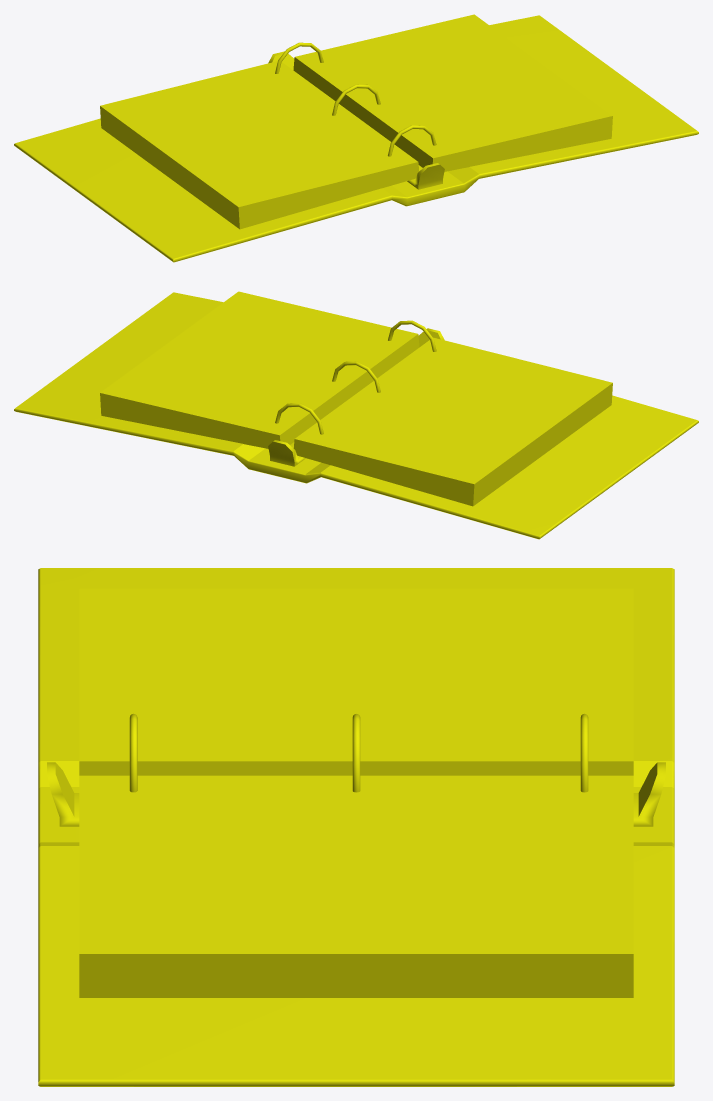
Rendered from BinderOpen_02.fbx.
The picture shows the model from 3 angles, top to bottom: view 1: azimuth 30°, elevation 25°; view 2: azimuth 150°, elevation 25°; view 3: azimuth 270°, elevation 25°; orthographic projection. The views are drawn at different scales.
Visible parts, largest first — view 1: OpenBinder_02; view 2: OpenBinder_02; view 3: OpenBinder_02.
Part boxes in pixels (x1,y1,x2,y2): OpenBinder_02: (14, 14, 698, 262); OpenBinder_02: (14, 291, 698, 539); OpenBinder_02: (38, 568, 674, 1086).
Bounding box in the file's own units: 13.47 × 1.4 × 7.06.
